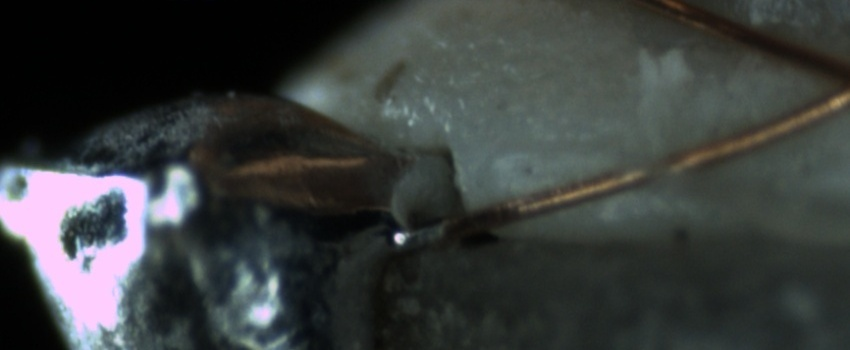DL: (497, 115, 624, 174)
TS: (388, 218, 443, 254)
